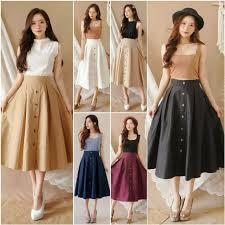skirt: (148, 82, 222, 180), (2, 76, 72, 175), (112, 154, 149, 207), (112, 41, 146, 93), (77, 38, 109, 92), (76, 152, 110, 202)
